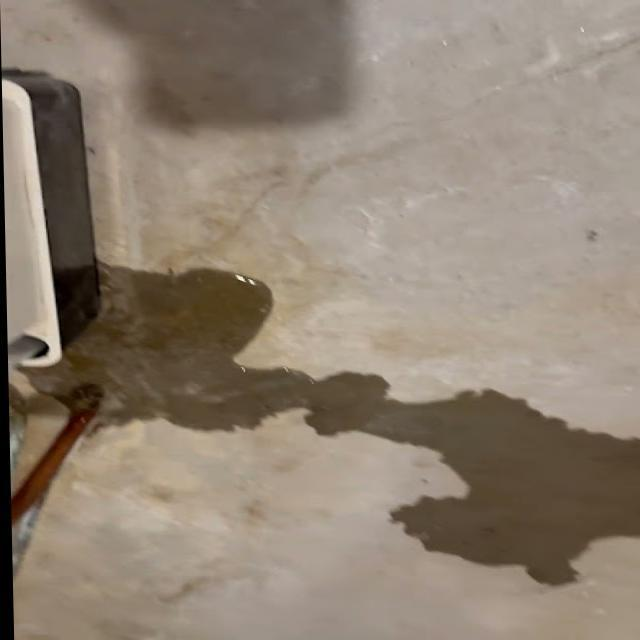water accumulation: (12, 264, 640, 586)
